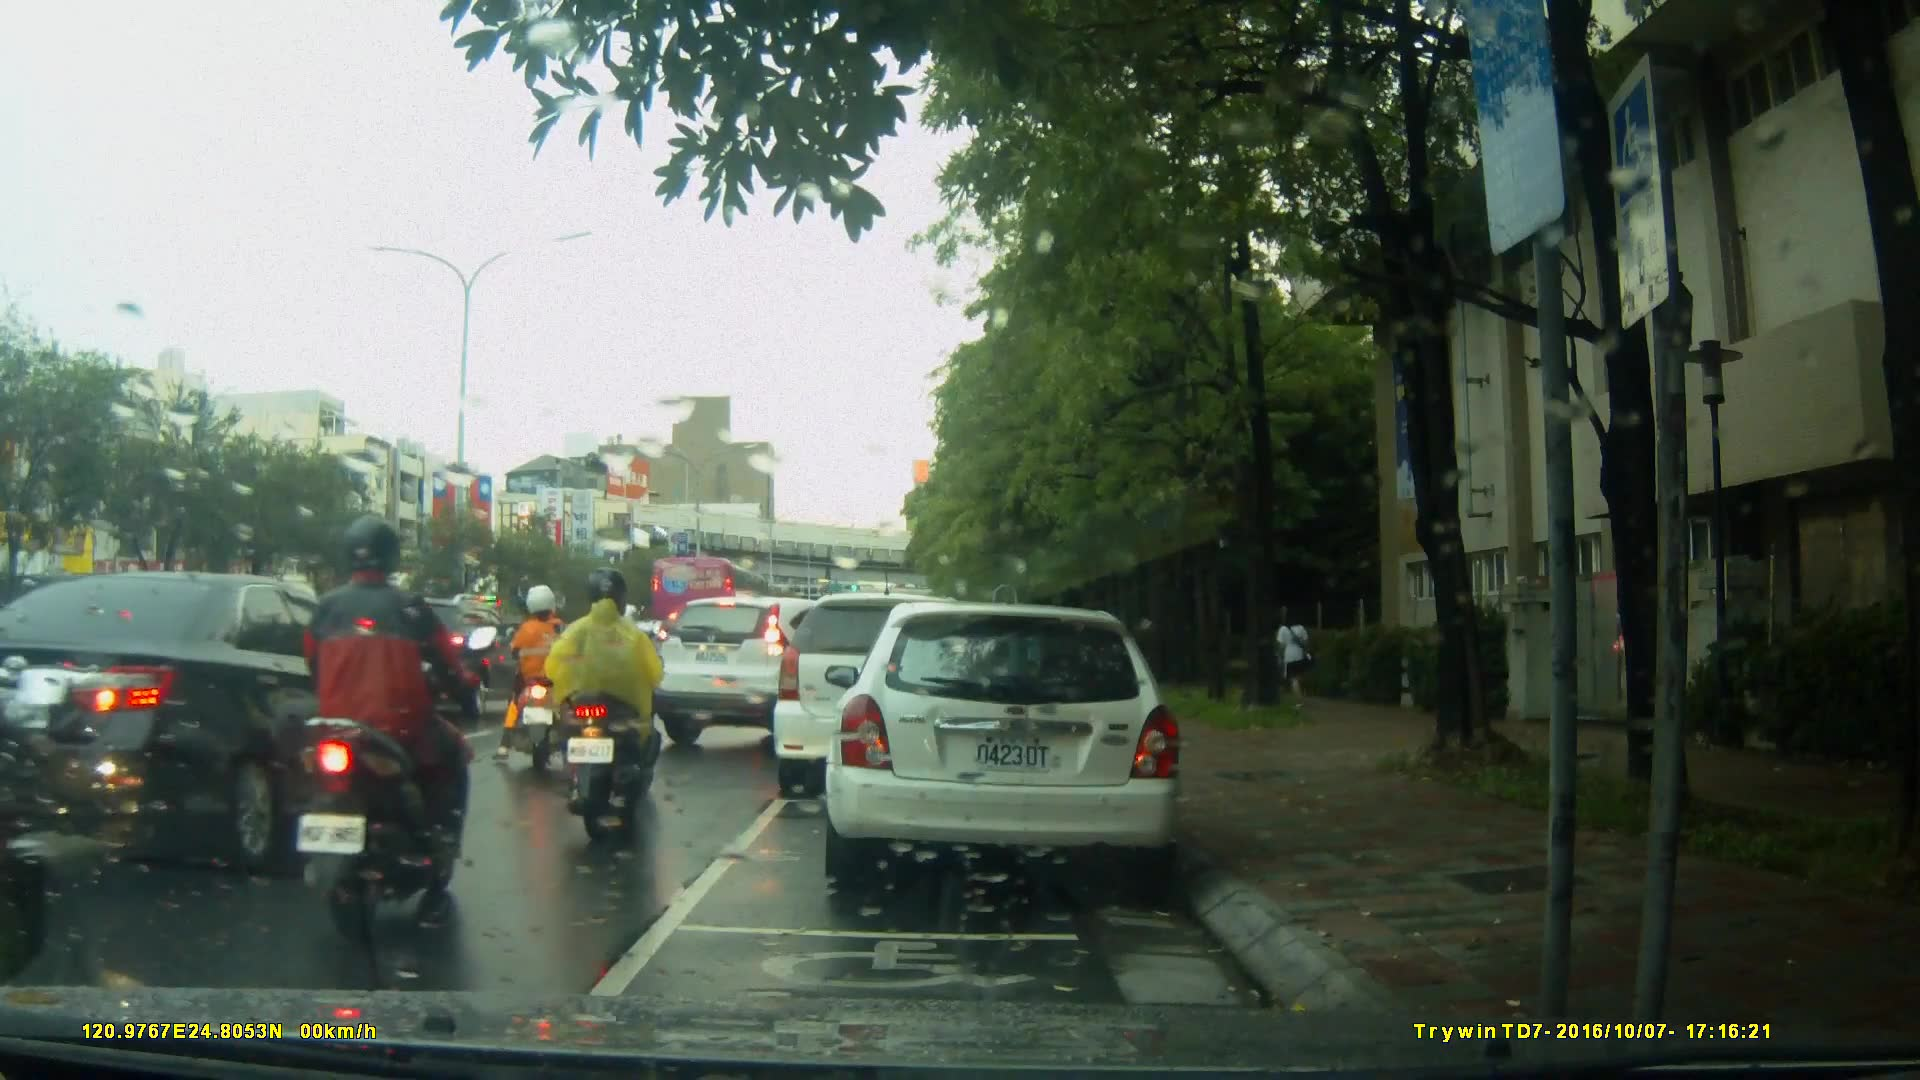pedestrian: (1267, 604, 1315, 719)
rider: (290, 519, 509, 937), (545, 576, 665, 836), (569, 577, 662, 801), (507, 585, 577, 775)
vehicle: (1, 567, 446, 877), (835, 594, 1194, 898), (776, 590, 1026, 784), (649, 590, 897, 755), (649, 555, 773, 641)
